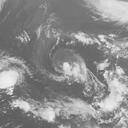cyclone: (48, 46, 95, 85)
